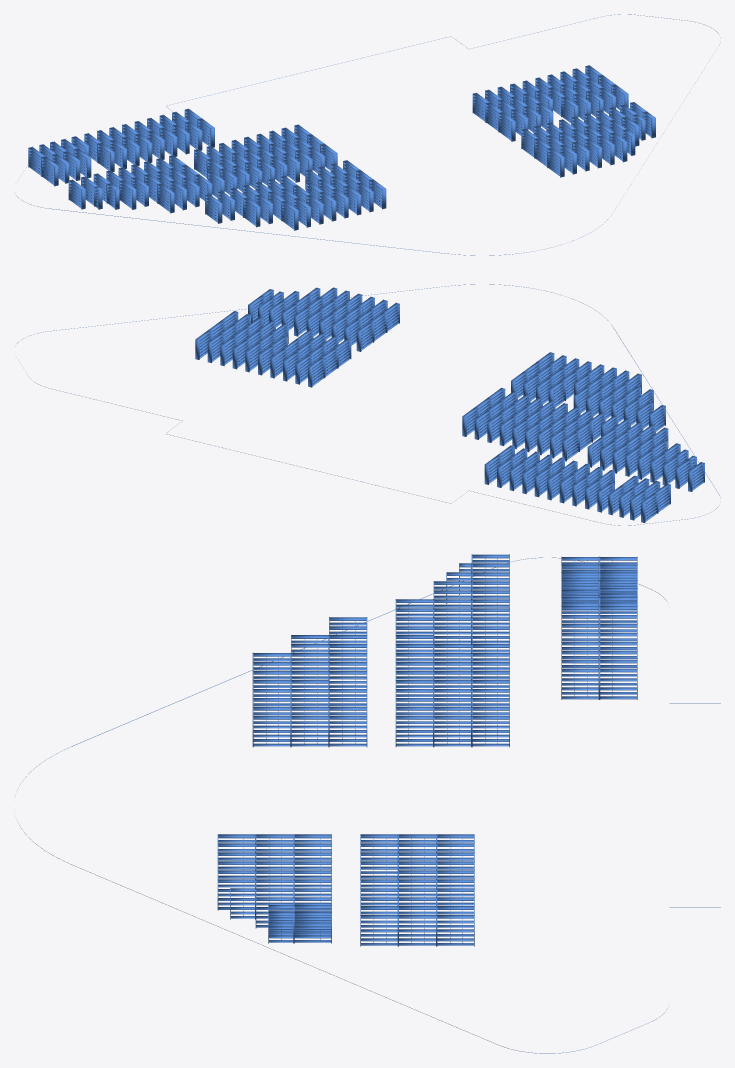
The model's file is library.obj.
The picture shows the model from 3 angles, top to bottom: view 1: azimuth 30°, elevation 25°; view 2: azimuth 150°, elevation 25°; view 3: azimuth 270°, elevation 25°; orthographic projection. The views are drawn at different scales.
Visible parts, largest first — view 1: Layer_0; view 2: Layer_0; view 3: Layer_0.
Part boxes in pixels (box(x1,y1,x2,y2)): Layer_0: box(17, 14, 719, 255); Layer_0: box(17, 284, 719, 525); Layer_0: box(17, 554, 720, 1053).
Bounding box in the file's own units: 8304 × 225 × 5003.
